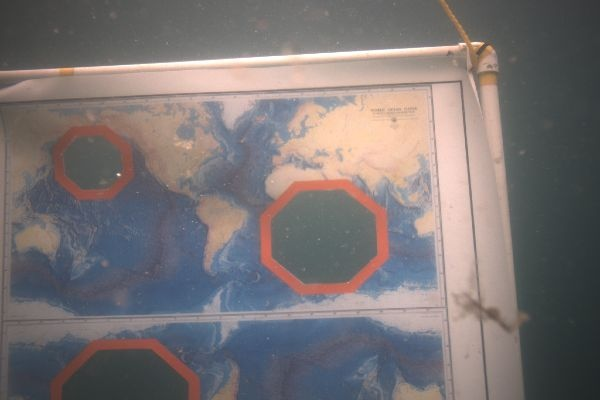torpille: (0, 42, 522, 400)
torpille_target: (260, 178, 388, 292), (51, 338, 199, 400), (51, 126, 132, 198)
